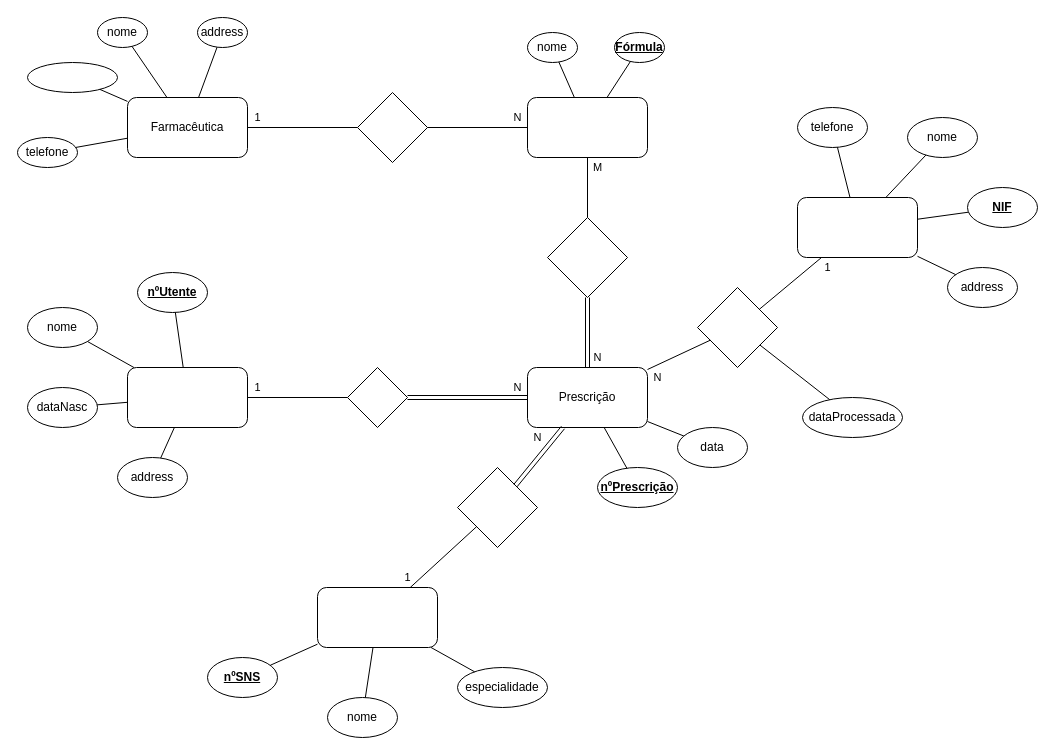
Some shapes in this 1055 by 755 pixel diagram are drawn without their labels. The box of each missing label's shape, as (x1, y1, x2, y2) in pixels:
constituída por: (546, 216, 628, 298)
Farmácia: (796, 196, 918, 258)
Fármaco: (526, 96, 648, 158)
Médico: (316, 586, 438, 648)
nºRegNacional: (26, 62, 118, 92)
Paciente: (126, 366, 248, 428)
pertence: (356, 92, 428, 162)
prescreve: (456, 466, 538, 548)
processa: (696, 286, 778, 368)
tem: (346, 366, 408, 428)
